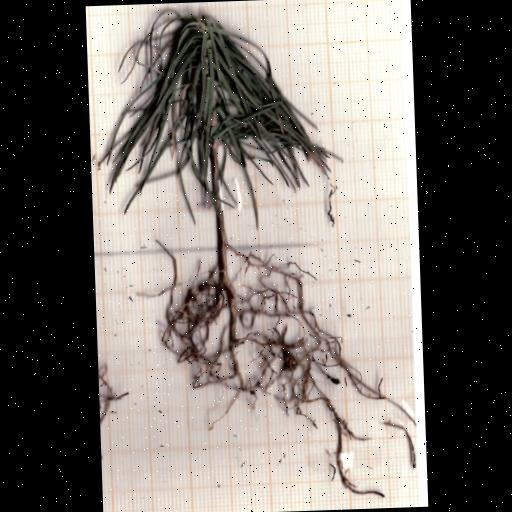flowerCedr: (97, 10, 335, 214)
rootCedr: (158, 244, 394, 496)
stemCedr: (209, 144, 228, 258)
